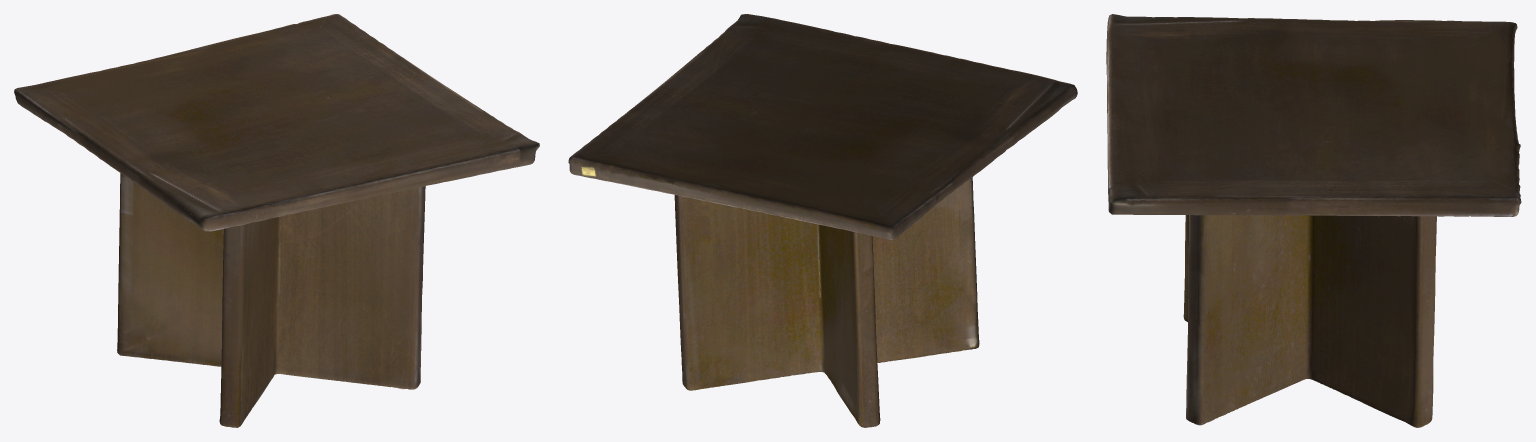
Rendered from table_wood.obj.
3 renders of one model, left to right at view 1: azimuth 30°, elevation 25°; view 2: azimuth 150°, elevation 25°; view 3: azimuth 270°, elevation 25°, orthographic. The views are drawn at different scales.
Visible parts, largest first — view 1: default; view 2: default; view 3: default.
Boxes of the visible parts, bbox=[...] form: default: bbox=[14, 14, 539, 427]; default: bbox=[568, 14, 1077, 427]; default: bbox=[1106, 14, 1521, 427].
Bounding box in the file's own units: 6.26 × 4.63 × 6.15.
